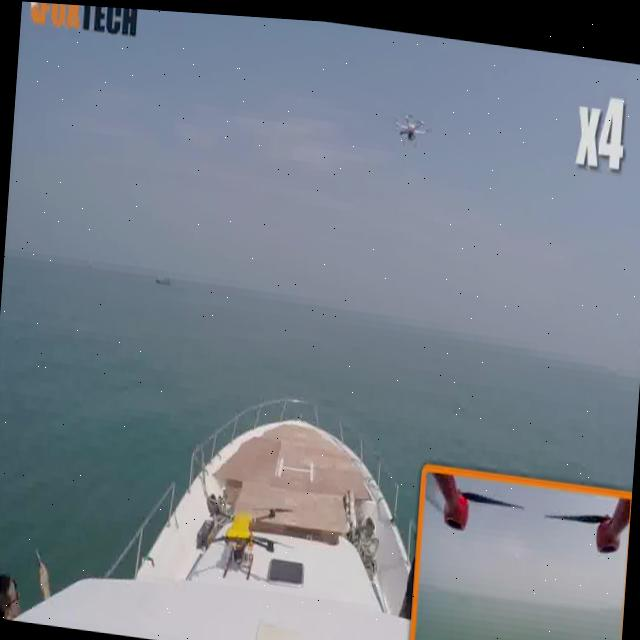drone: (184, 464, 296, 578)
